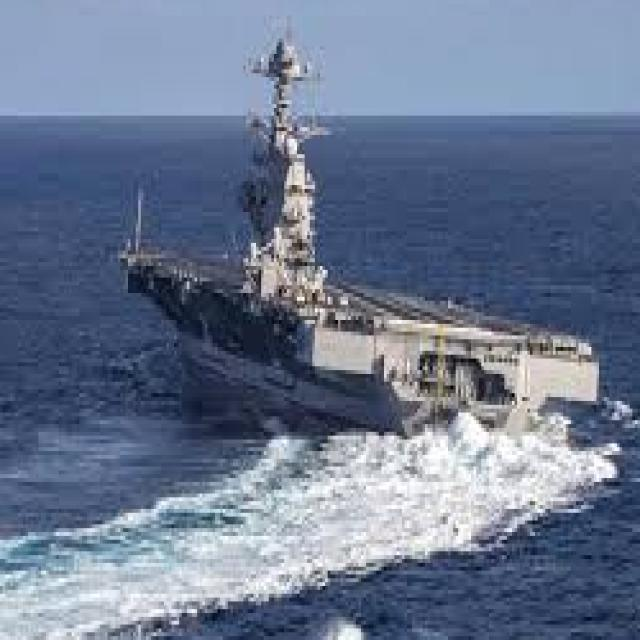navalvessels: (115, 22, 590, 469)
